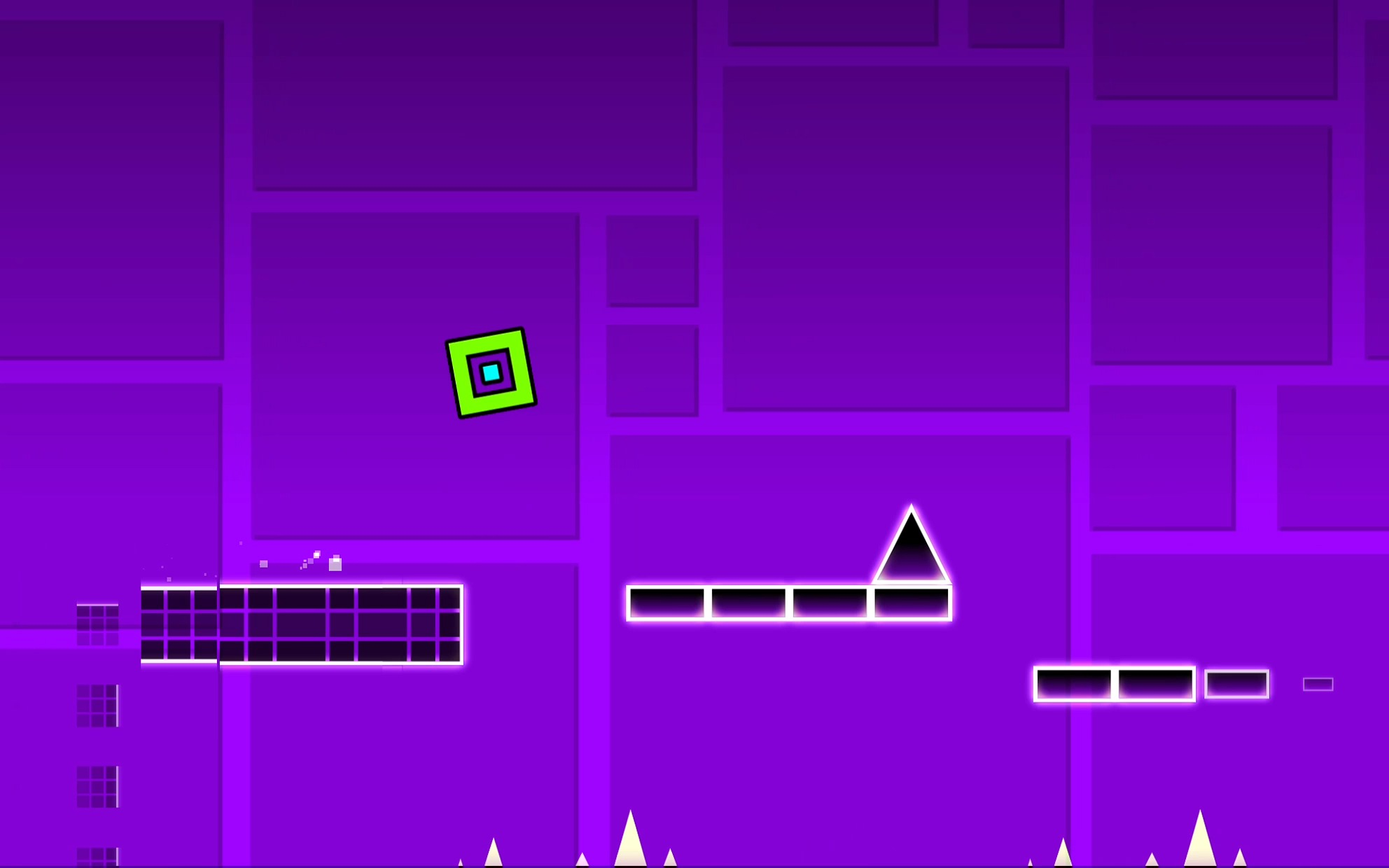Block2: (139, 587, 466, 660)
Block3: (1032, 666, 1200, 700), (627, 585, 786, 620), (793, 585, 874, 624), (871, 585, 952, 624), (1201, 668, 1271, 699)
Player: (445, 326, 537, 417)
Spike: (871, 506, 951, 583)
